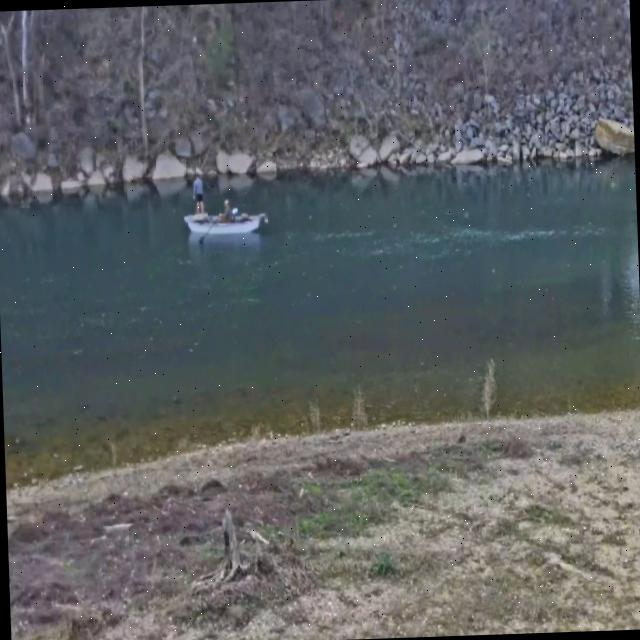kayak: (183, 213, 267, 239)
